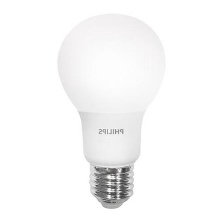light_bulb: (52, 8, 174, 214)
